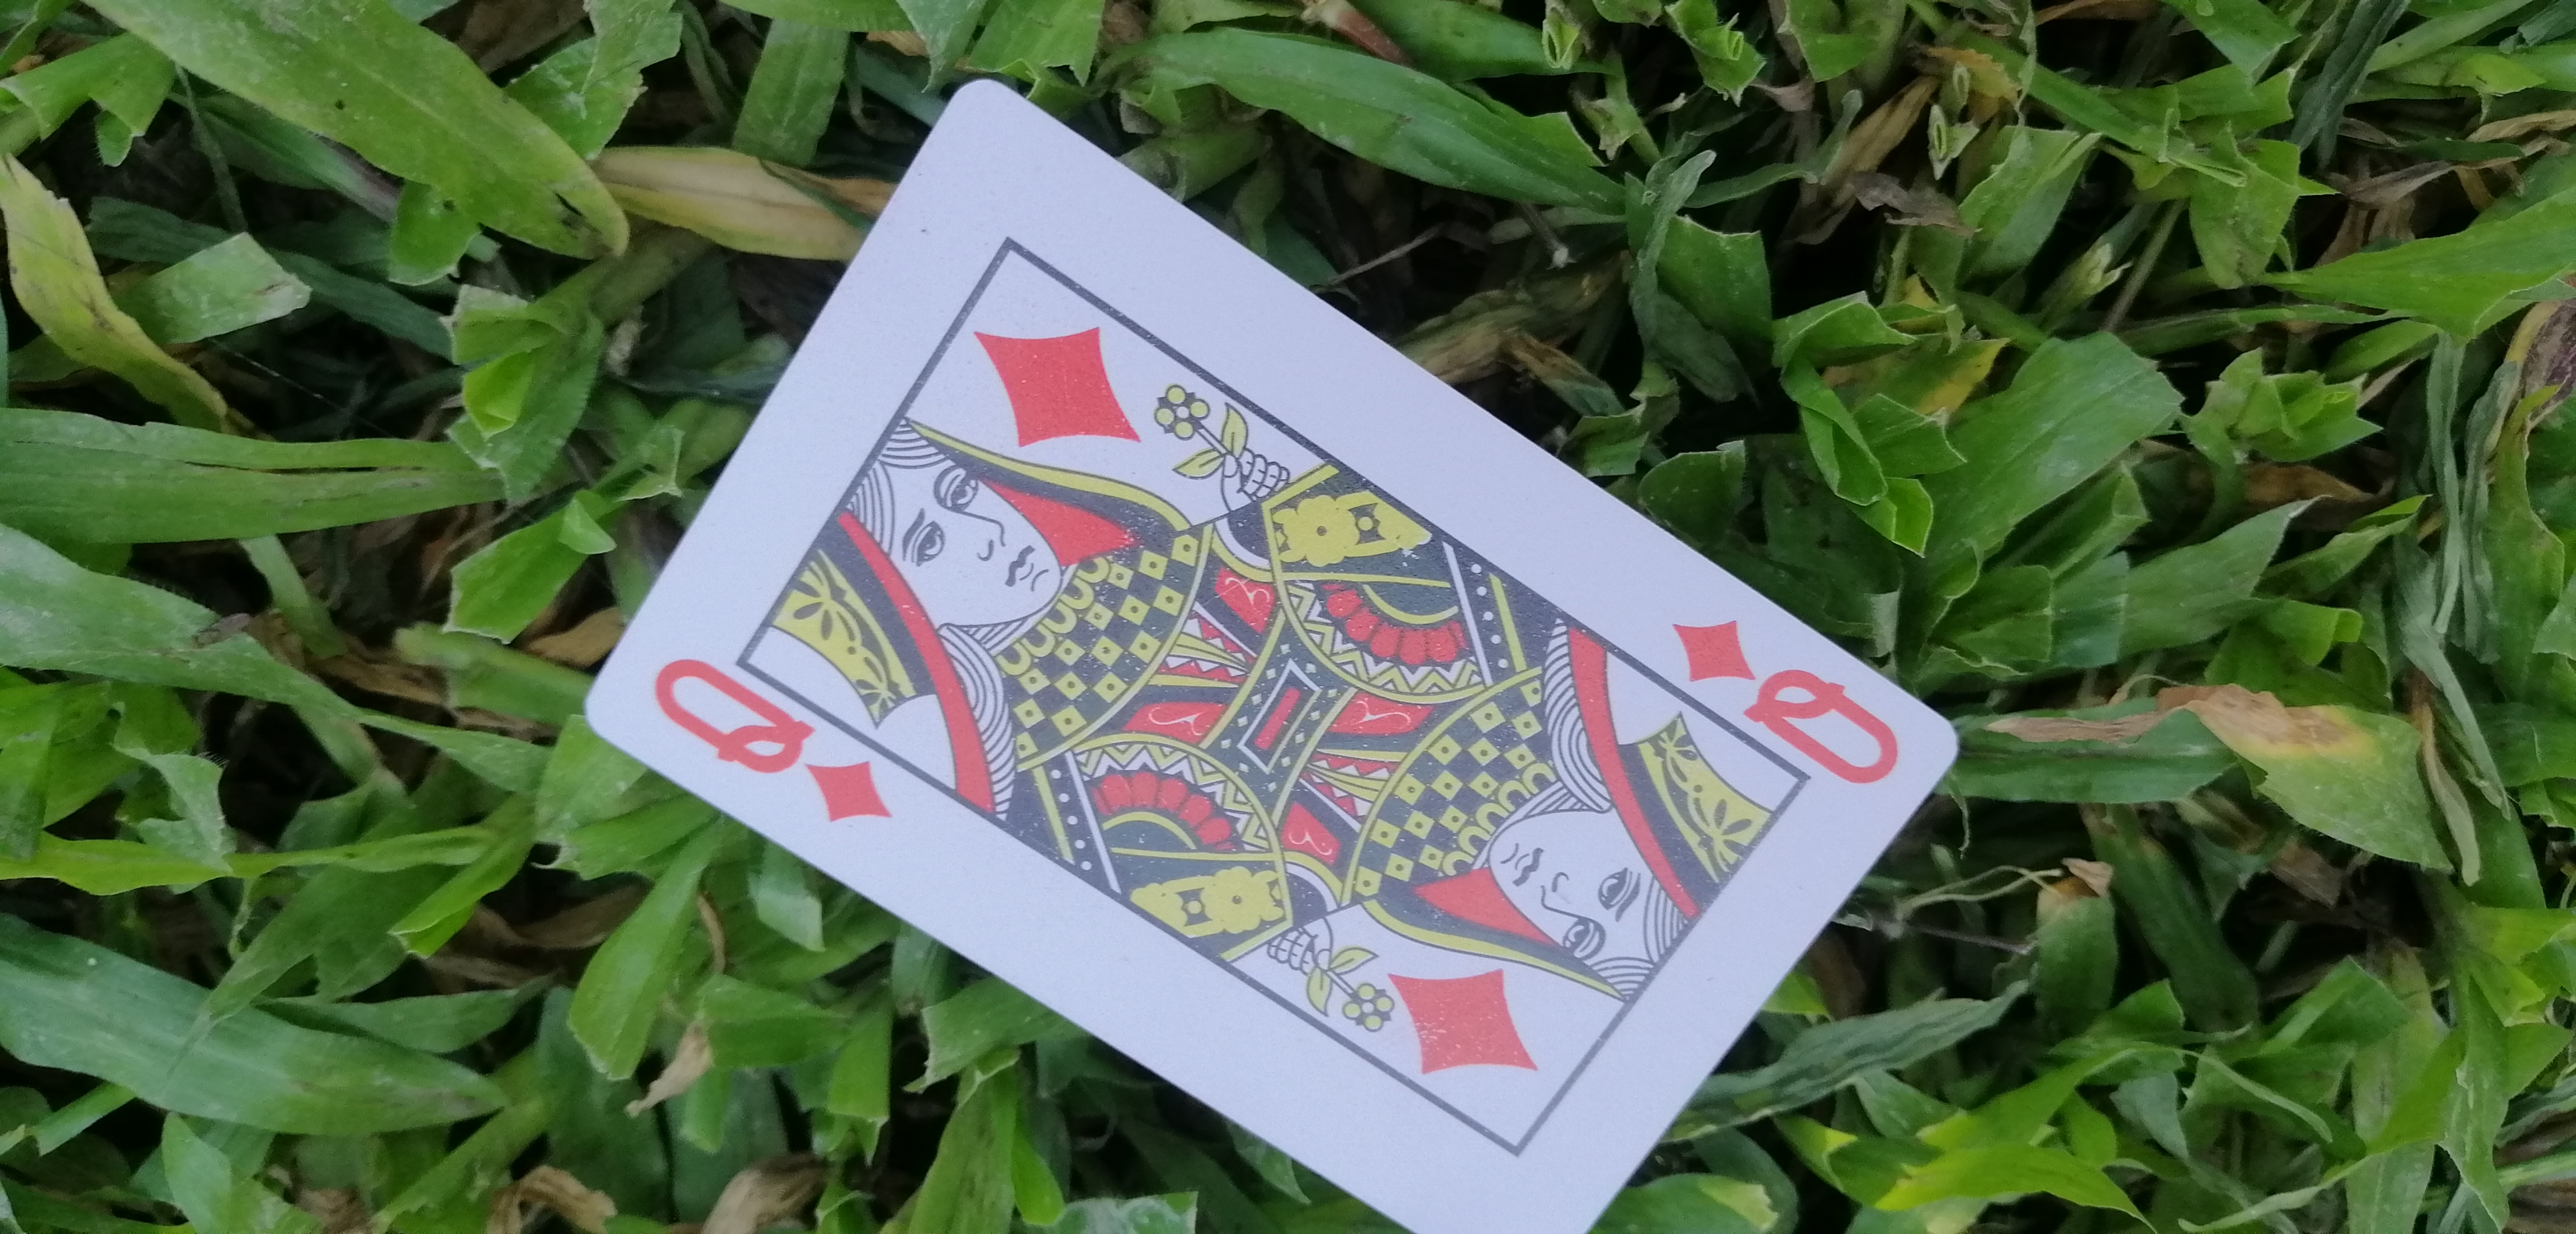queen: (578, 85, 1966, 1229)
